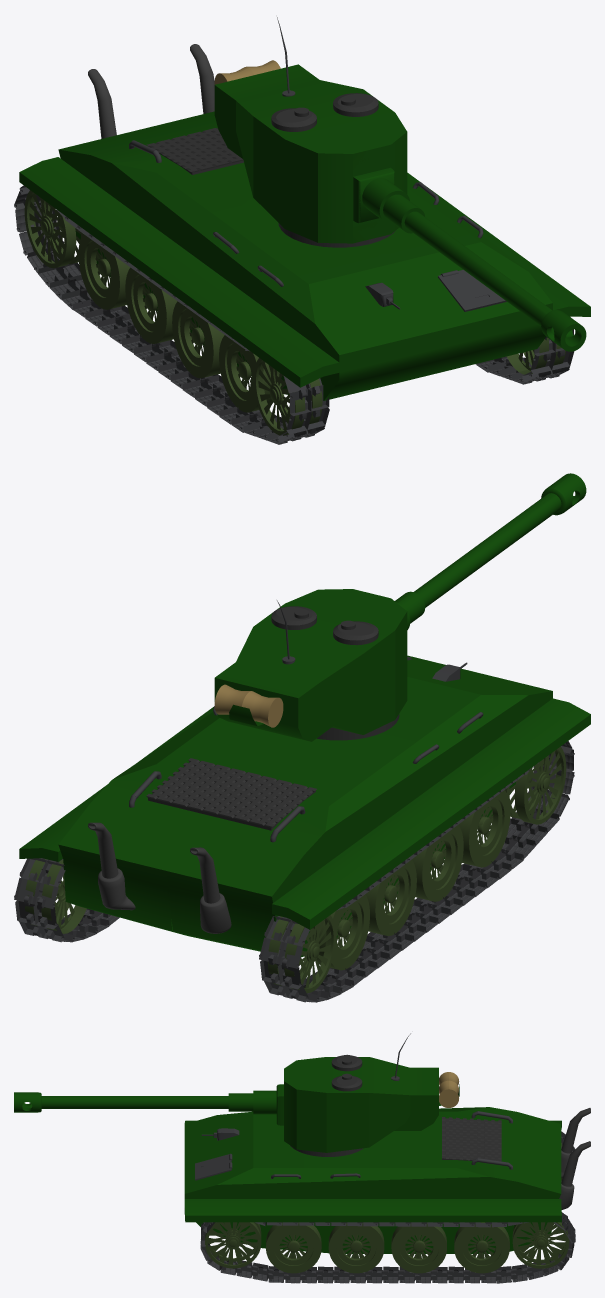
File: low poly czołg.fbx
3 views of the same model, one above another, from view 1: azimuth 30°, elevation 25°; view 2: azimuth 150°, elevation 25°; view 3: azimuth 270°, elevation 25° (orthographic). The views are drawn at different scales.
Parts seen in each view (by area): view 1: Cube; view 2: Cube; view 3: Cube.
Part boxes in pixels (x1,y1,x2,y2): Cube: (14, 17, 590, 444); Cube: (14, 473, 590, 1002); Cube: (14, 1033, 590, 1283).
Bounding box in the file's own units: 387 × 393 × 993.
